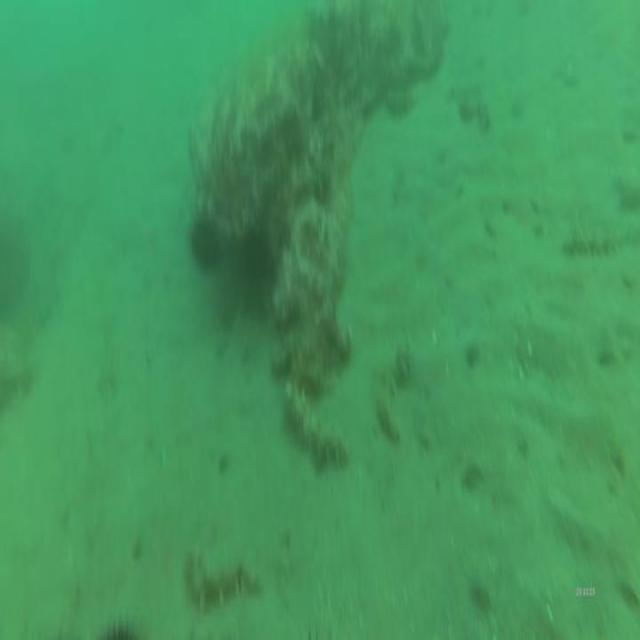echinus: (186, 204, 225, 276), (239, 215, 278, 283)
holothurian: (282, 367, 348, 477), (180, 540, 260, 615), (375, 348, 414, 442)
